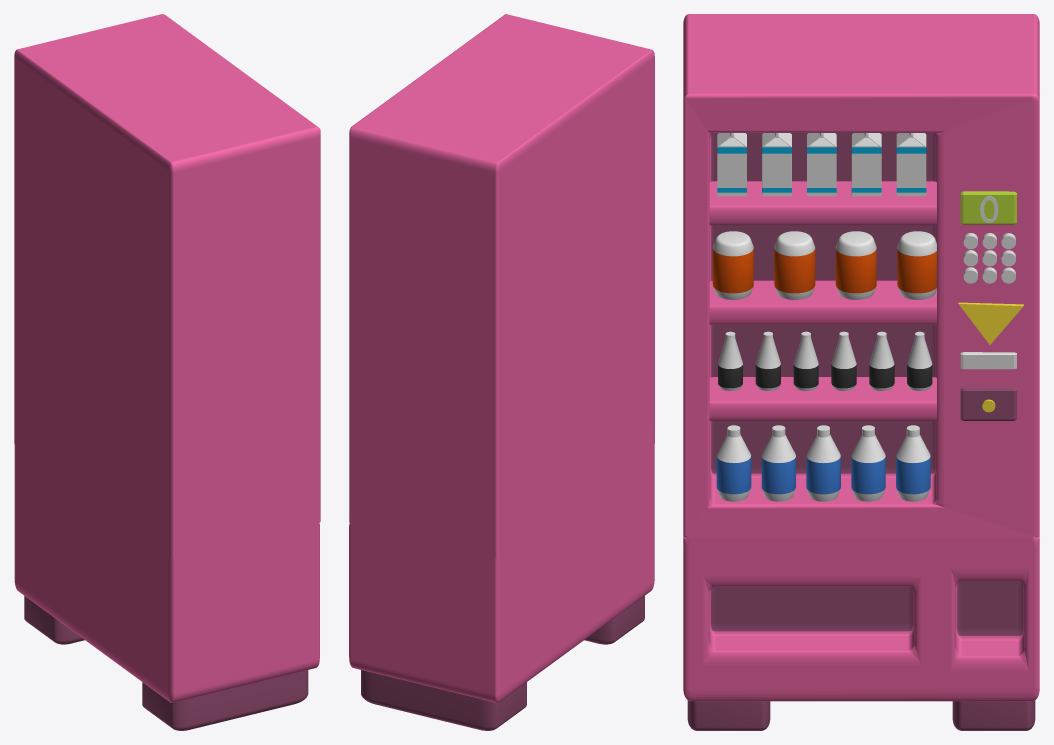
Rendered from fending_machine_compresed3.glb.
The picture shows the model from 3 angles, left to right: view 1: azimuth 30°, elevation 25°; view 2: azimuth 150°, elevation 25°; view 3: azimuth 270°, elevation 25°; orthographic projection. The views are drawn at different scales.
Parts seen in each view (by area): view 1: Cube, Cube.003, Cube.004; view 2: Cube, Cube.003, Cube.004; view 3: Cube, Cube.003, Cylinder.004, Cylinder.002, Cube.005, Cylinder.003, Cube.004, Cylinder, Cube.002, Cube.001, Circle, Cube.006.
Part boxes in pixels (left/top/right/bottom): Cube: left=14, top=14, right=320, bottom=558; Cube.003: left=14, top=444, right=319, bottom=702; Cube.004: left=24, top=596, right=308, bottom=730; Cube: left=349, top=14, right=654, bottom=558; Cube.003: left=349, top=444, right=654, bottom=702; Cube.004: left=361, top=596, right=644, bottom=730; Cube: left=683, top=14, right=1039, bottom=537; Cube.003: left=683, top=536, right=1039, bottom=701; Cylinder.004: left=716, top=425, right=930, bottom=501; Cylinder.002: left=712, top=231, right=936, bottom=299; Cube.005: left=717, top=133, right=926, bottom=196; Cylinder.003: left=718, top=331, right=932, bottom=390; Cube.004: left=687, top=700, right=1035, bottom=730; Cylinder: left=963, top=233, right=1015, bottom=283; Cube.002: left=960, top=387, right=1016, bottom=420; Cube.001: left=960, top=191, right=1016, bottom=224; Circle: left=958, top=302, right=1023, bottom=344; Cube.006: left=960, top=352, right=1016, bottom=369.
Size of what is drawn, in the model's own units: 1.8 by 6.38 by 3.19.
